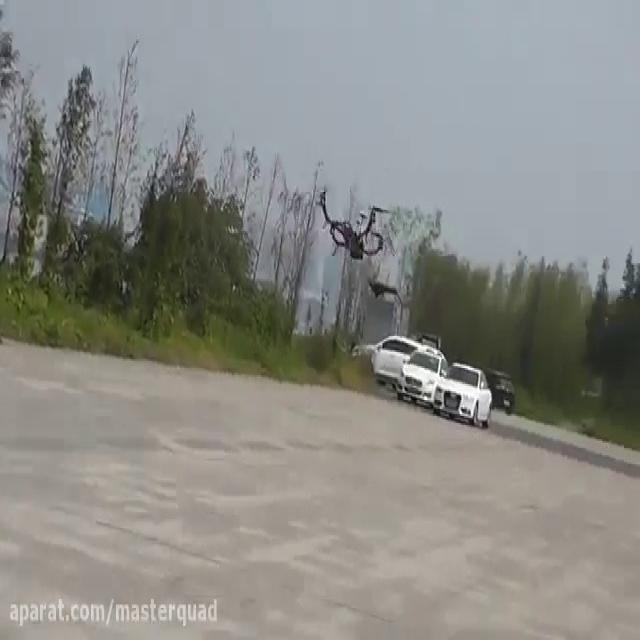drone: (313, 181, 395, 263)
